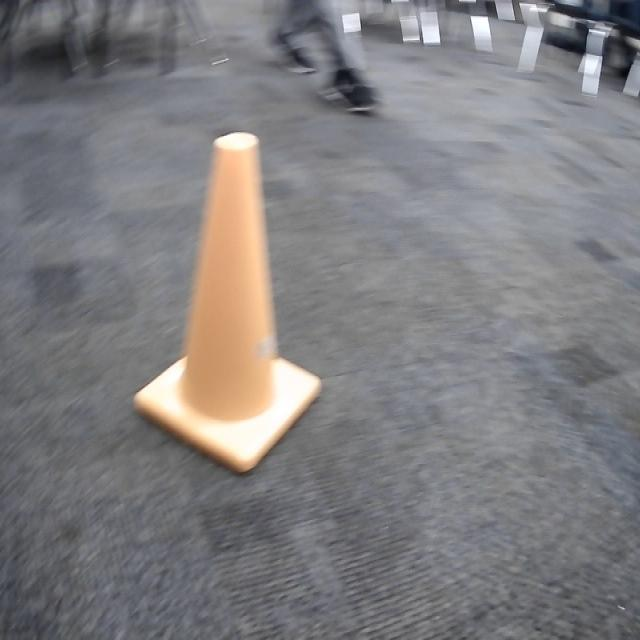cone: (131, 129, 322, 476)
